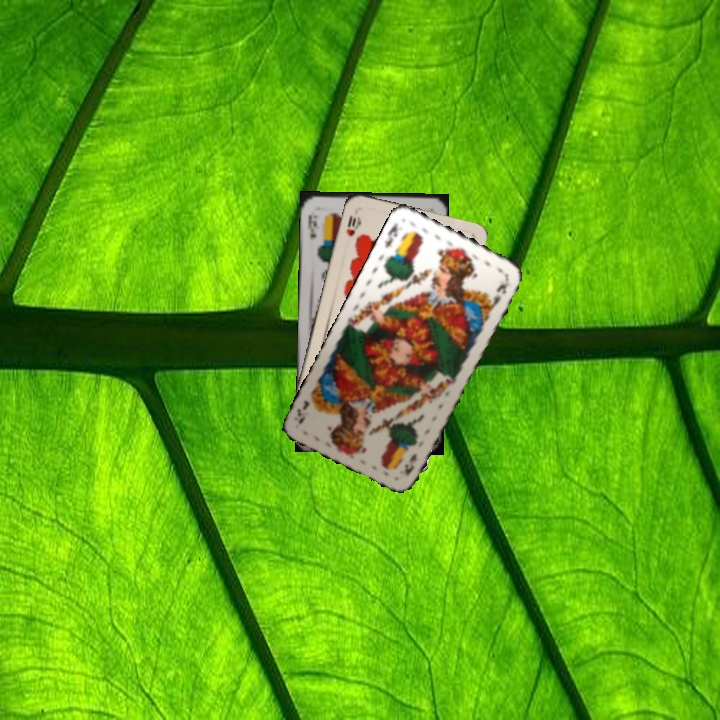EK: (380, 219, 401, 251), (400, 449, 420, 478), (303, 211, 319, 242)
H10: (342, 211, 363, 239)
